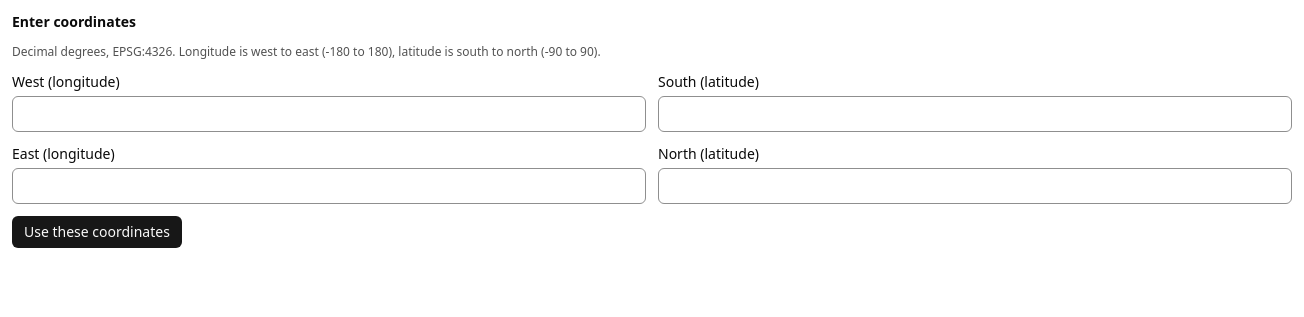
Test: CoordinateInputs › has no accessibility violations, with and without errors
Click the button "Use these coordinates".
click(97, 232)  # box [12,216,182,248]
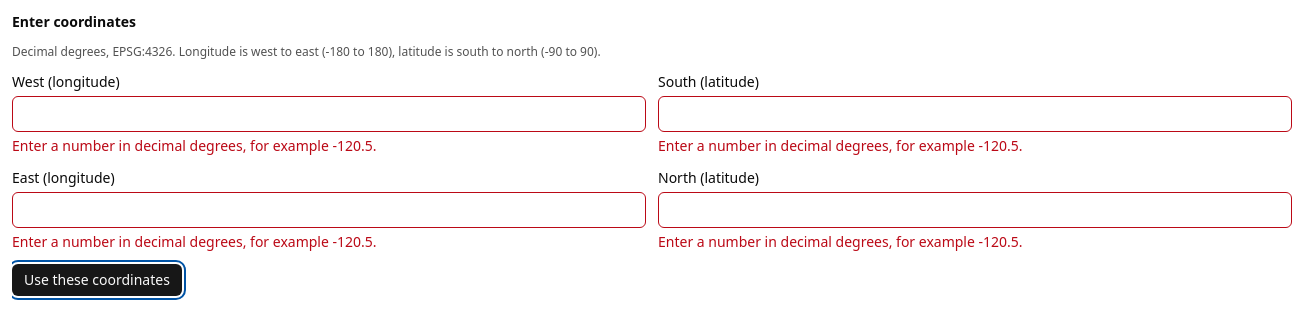
Now the number of messages is 4, box [12,136,376,155]; [658,136,1022,155]; [12,232,376,251]; [658,232,1022,251]
